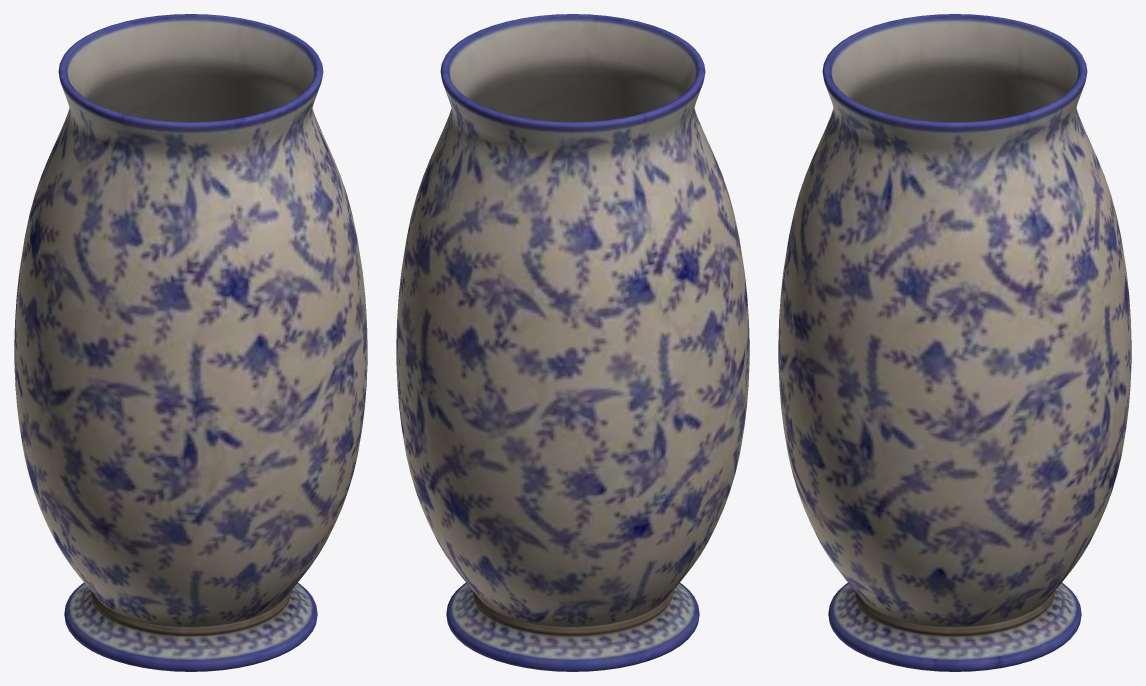
The model's file is antique_ceramic_vase_01.glb.
3 views of the same model, side by side, from view 1: azimuth 30°, elevation 25°; view 2: azimuth 150°, elevation 25°; view 3: azimuth 270°, elevation 25° (orthographic).
Visible parts, largest first — view 1: antique_ceramic_vase_01; view 2: antique_ceramic_vase_01; view 3: antique_ceramic_vase_01.
Part boxes in pixels (left/top/right/bottom): antique_ceramic_vase_01: left=14, top=14, right=367, bottom=671; antique_ceramic_vase_01: left=396, top=14, right=749, bottom=671; antique_ceramic_vase_01: left=778, top=14, right=1131, bottom=671.
Size of the model in its own units: 0.255 by 0.4396 by 0.255.
Materials: 1 (1 with a texture image).
